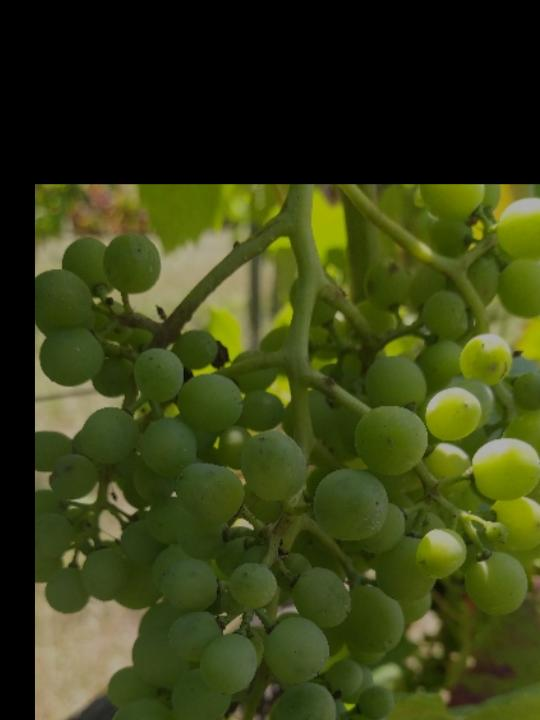grape: (16, 153, 540, 720)
